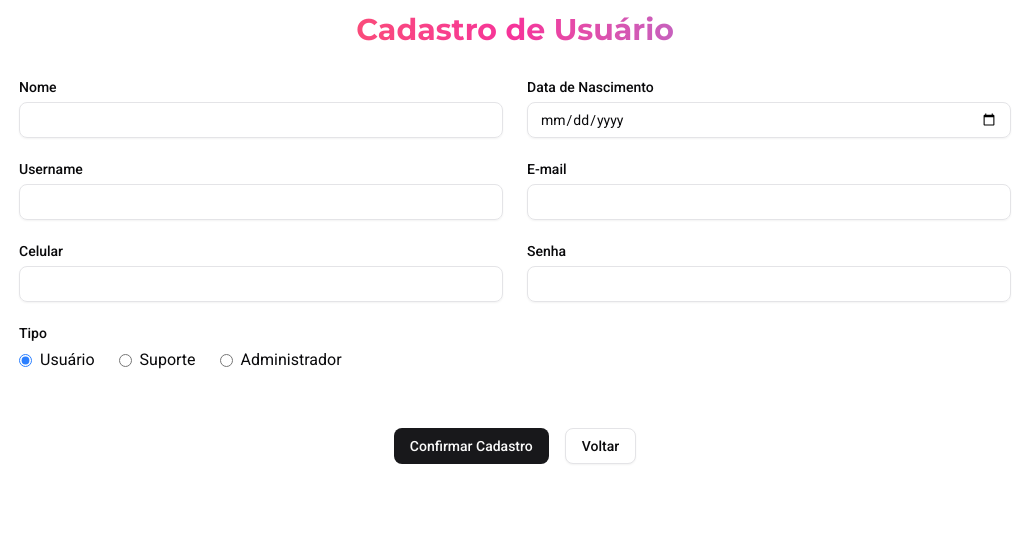
Test: AddUserPage Component › Formulário e API › Deve mostrar erro geral quando a API retorna uma string simples
This screenshot has width=1031, height=543.
Type "Novo Usuário" into the field labelled "Nome" at coordinates (261, 120), box [19,102,503,138]
Type "novoUser" into the field labelled "Username" at coordinates (261, 202), box [19,184,503,220]
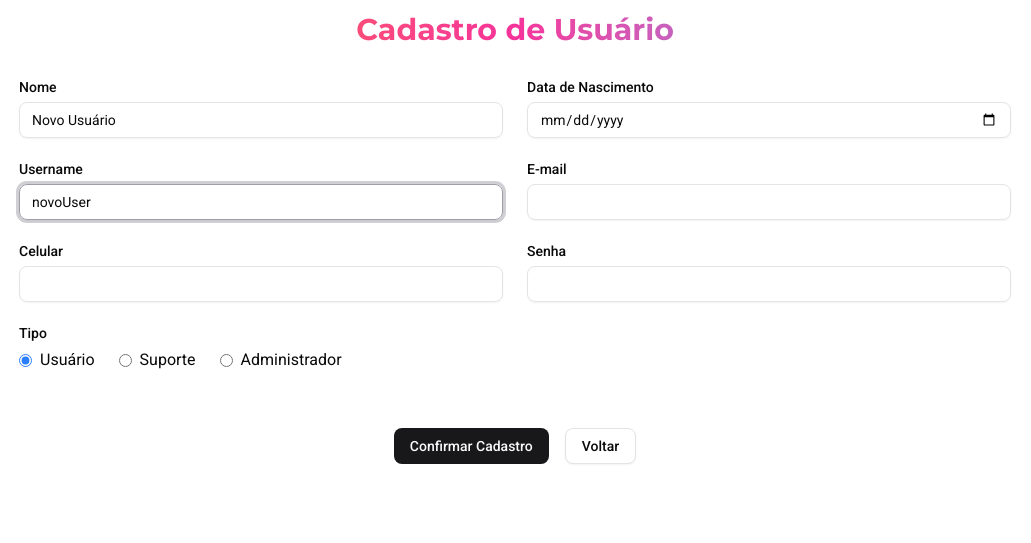
Type "2000-01-01" into the date field labelled "Data de Nascimento" at coordinates (769, 120), box [527,102,1011,138]
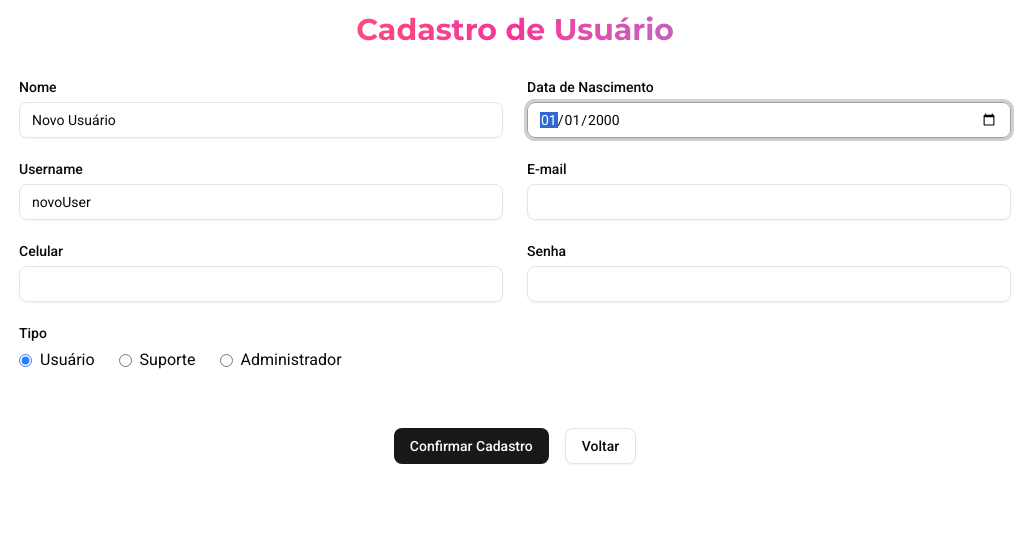
Type "novo@teste.com" into the field labelled "E-mail" at coordinates (769, 202), box [527,184,1011,220]
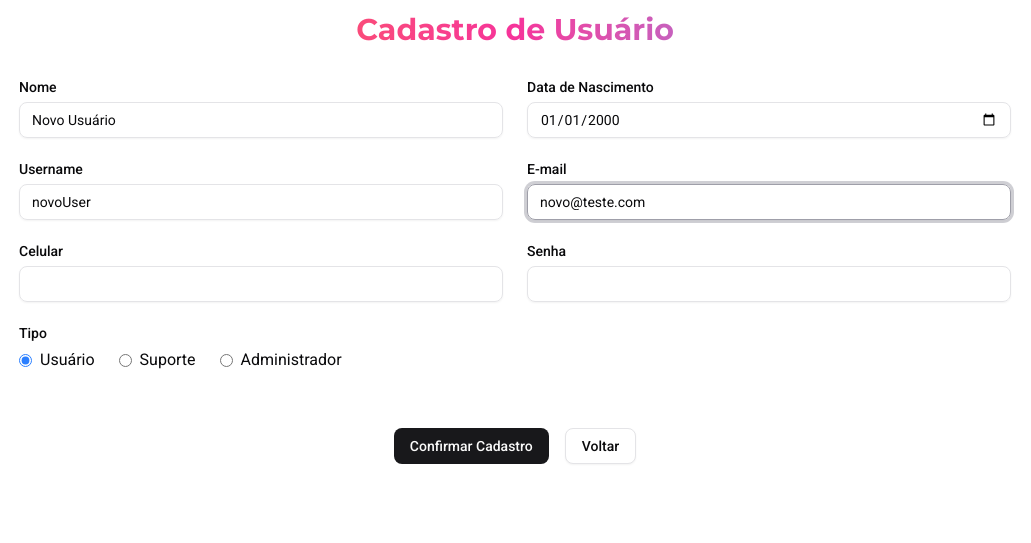
Type "5592929999999" into the field labelled "Celular" at coordinates (261, 284), box [19,266,503,302]
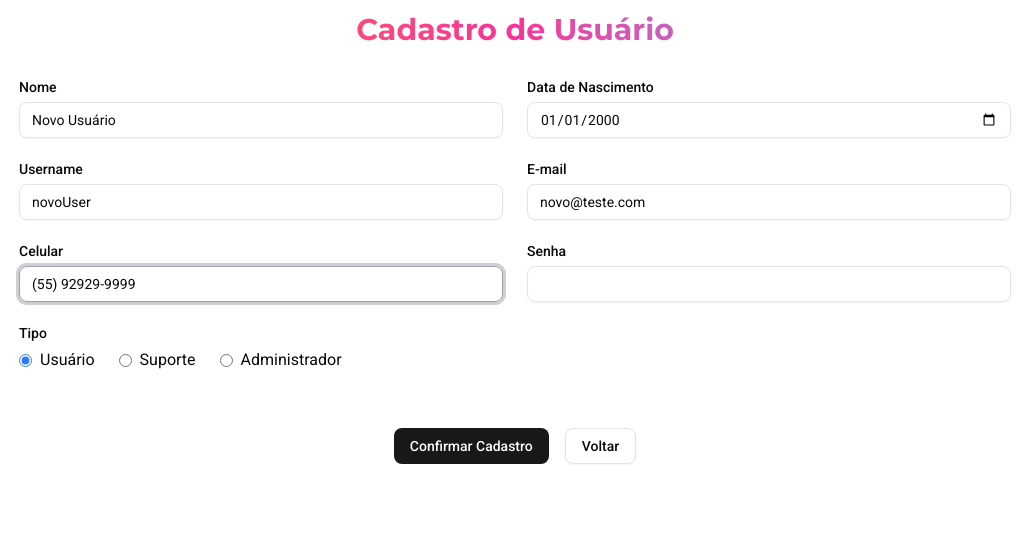
Type "12345Ab@" into the password field labelled "Senha" at coordinates (769, 284), box [527,266,1011,302]
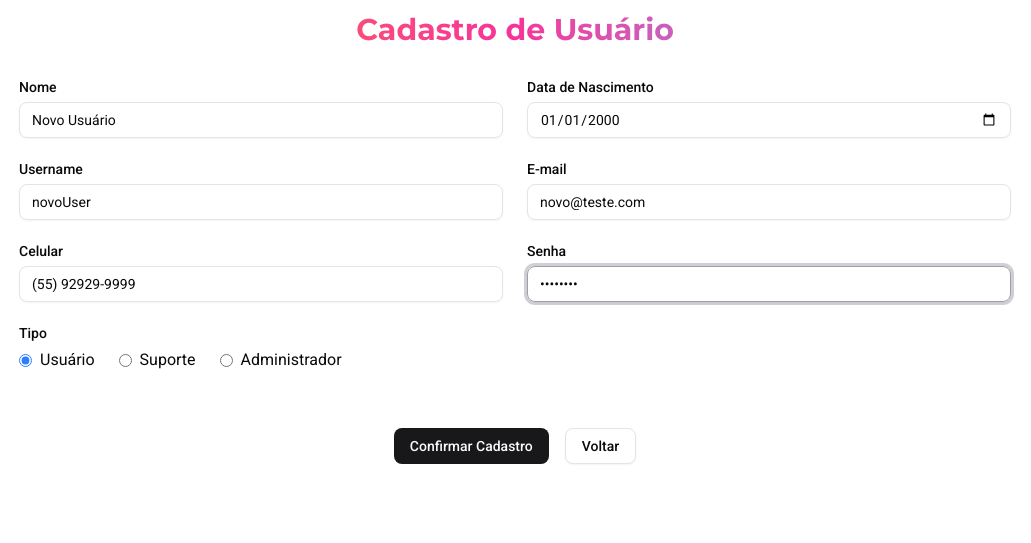
Click the button "Confirmar Cadastro" at coordinates (471, 446), box [394,428,549,464]
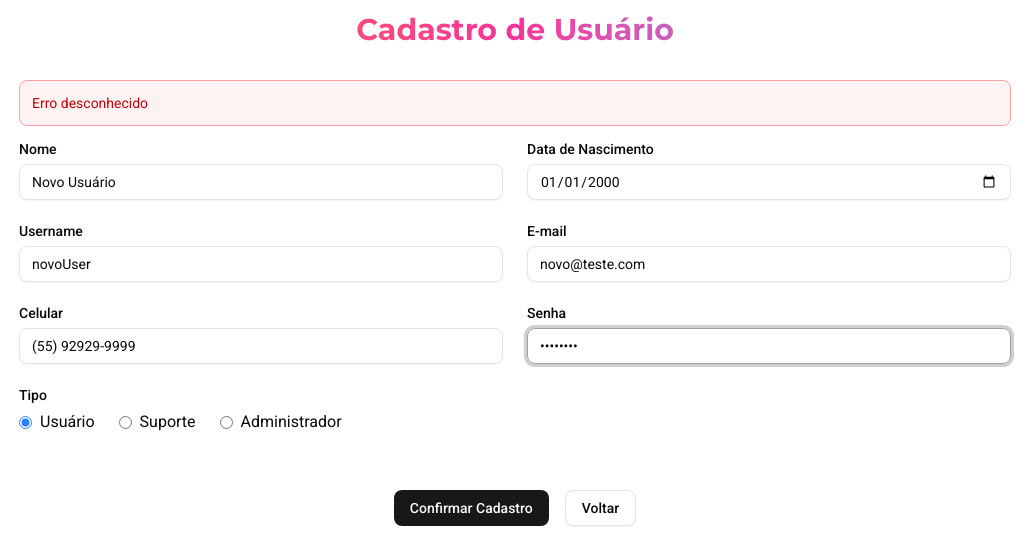
Expected: the text "Erro desconhecido" is shown, [19,80,1011,126]
